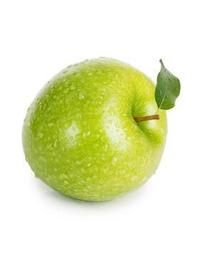apple: (21, 56, 168, 201)
